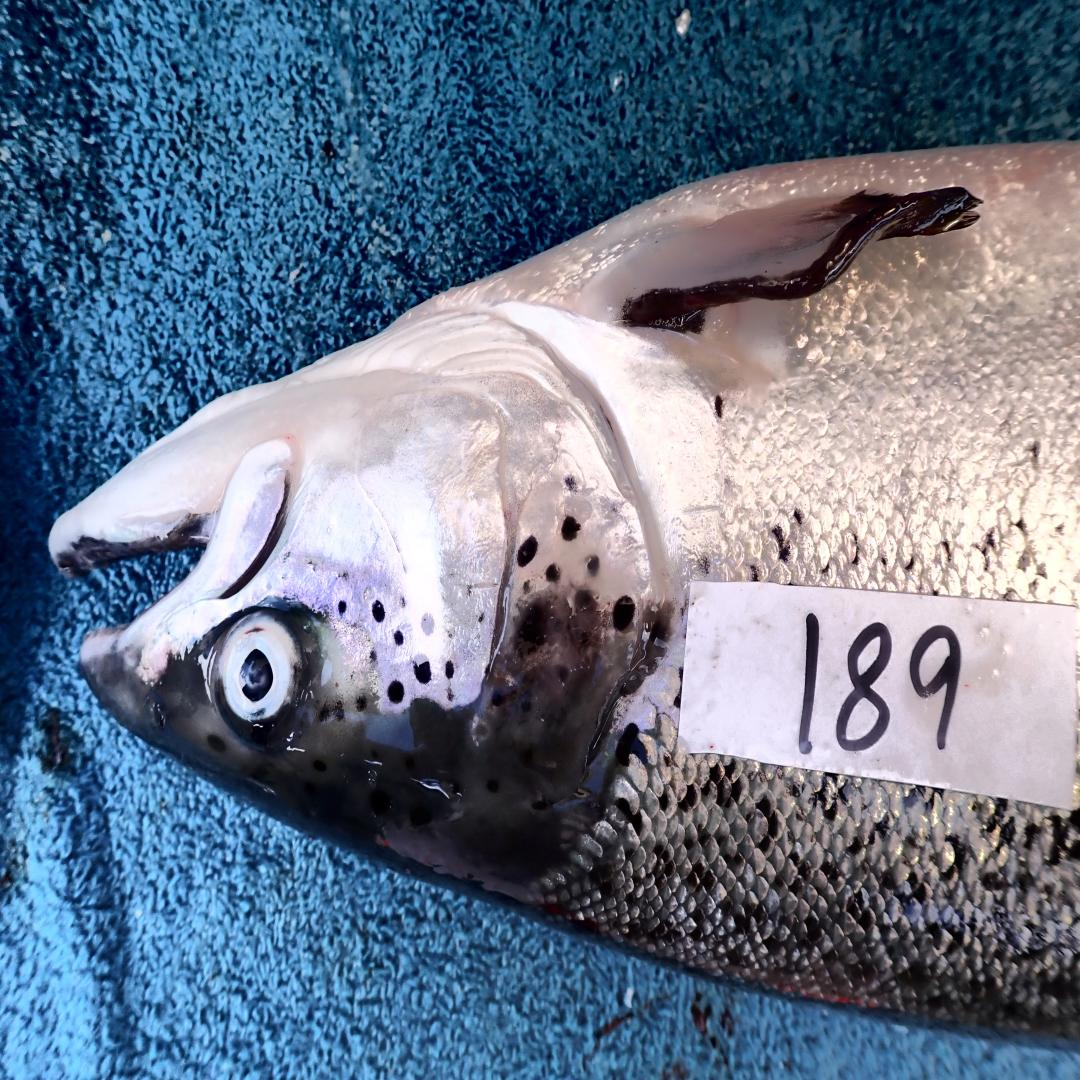spot: (612, 596, 635, 630), (411, 652, 433, 683), (517, 537, 538, 565), (561, 515, 580, 540), (388, 680, 405, 704), (420, 611, 436, 636), (544, 562, 561, 582), (371, 602, 386, 622), (585, 558, 599, 579), (564, 477, 577, 496), (393, 629, 404, 647), (319, 704, 330, 721), (356, 696, 368, 711), (335, 702, 344, 721), (336, 600, 346, 616), (445, 662, 454, 678), (478, 611, 487, 624), (523, 578, 530, 593), (369, 649, 377, 662), (400, 599, 407, 608)
